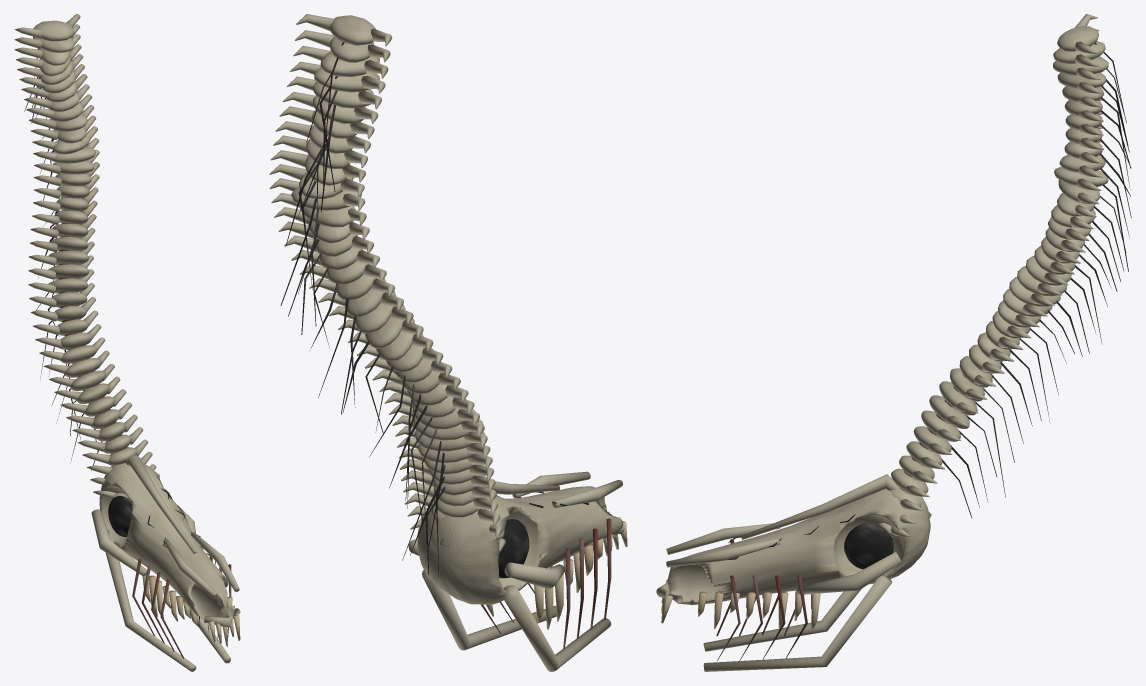
File: vent-ossuary-v300.glb
3 views of the same model, side by side, from view 1: azimuth 30°, elevation 25°; view 2: azimuth 150°, elevation 25°; view 3: azimuth 270°, elevation 25° (orthographic). The views are drawn at different scales.
Parts seen in each view (by area): view 1: Excavatedweatheredivory, Crackedirregularmolars, Driedexposedsinew, Unlitbonecavities, Blackfilamentmane; view 2: Excavatedweatheredivory, Blackfilamentmane, Crackedirregularmolars, Driedexposedsinew, Unlitbonecavities; view 3: Excavatedweatheredivory, Blackfilamentmane, Crackedirregularmolars, Unlitbonecavities, Driedexposedsinew.
Boxes of the visible parts, x1=… form: Excavatedweatheredivory: x1=14, y1=14, x2=240, y2=671; Crackedirregularmolars: x1=142, y1=575, x2=240, y2=646; Driedexposedsinew: x1=59, y1=210, x2=231, y2=658; Unlitbonecavities: x1=108, y1=488, x2=215, y2=564; Blackfilamentmane: x1=24, y1=48, x2=102, y2=470; Excavatedweatheredivory: x1=269, y1=14, x2=624, y2=671; Blackfilamentmane: x1=280, y1=42, x2=445, y2=577; Crackedirregularmolars: x1=486, y1=521, x2=627, y2=629; Driedexposedsinew: x1=481, y1=497, x2=611, y2=648; Unlitbonecavities: x1=496, y1=492, x2=588, y2=578; Excavatedweatheredivory: x1=656, y1=14, x2=1108, y2=671; Blackfilamentmane: x1=942, y1=43, x2=1131, y2=517; Crackedirregularmolars: x1=661, y1=579, x2=820, y2=631; Unlitbonecavities: x1=728, y1=514, x2=893, y2=569; Driedexposedsinew: x1=716, y1=373, x2=965, y2=660.
Size of the model in its own units: 0.544 by 2.8 by 1.91.
